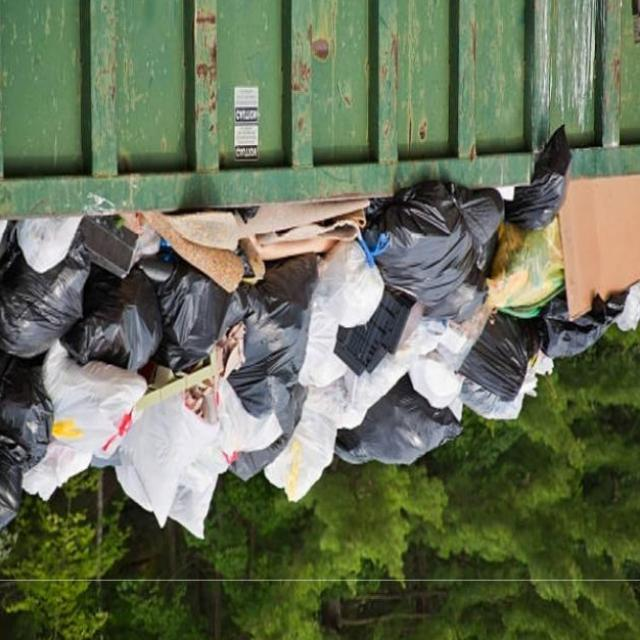plastik: (265, 332, 417, 501), (363, 182, 504, 321), (222, 255, 318, 418), (116, 393, 219, 527), (42, 342, 147, 456), (0, 236, 91, 358), (60, 266, 162, 372), (0, 351, 52, 531), (153, 260, 231, 373), (486, 218, 564, 318), (229, 384, 307, 481), (459, 314, 541, 401), (265, 406, 337, 502), (505, 126, 571, 230), (316, 240, 385, 327), (539, 291, 627, 358), (217, 380, 282, 461), (299, 301, 348, 387), (22, 442, 93, 501), (169, 461, 219, 539), (18, 217, 82, 272), (409, 352, 464, 409), (460, 380, 524, 419)
